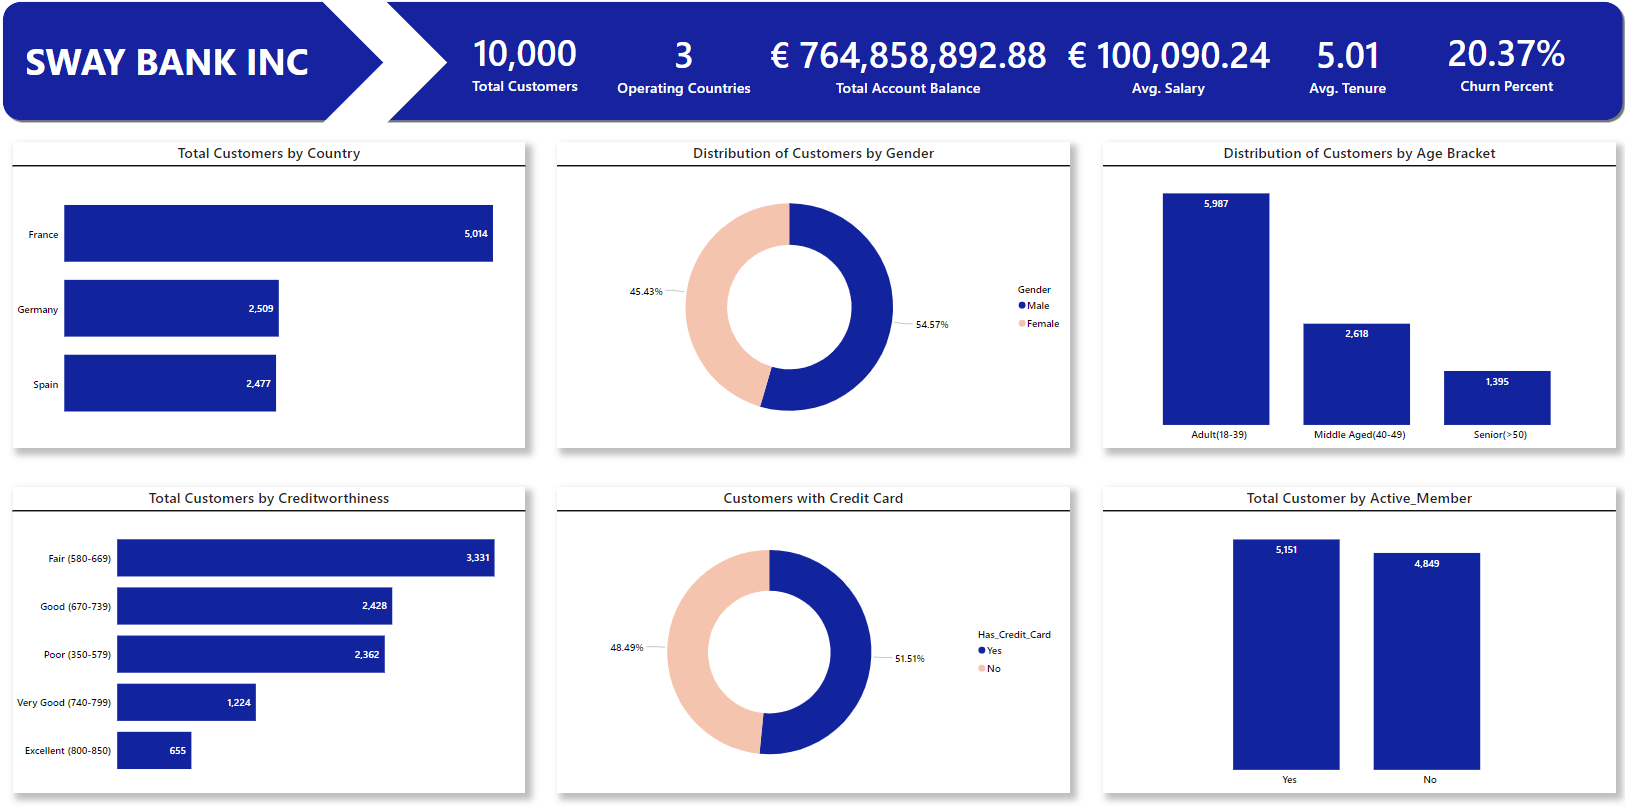

This screenshot's page, from the dashboard's own definition file:
{"tool":"powerbi","page":{"name":"DASHBOARD","canvas":[2400,1200],"ordinal":0},"visuals":[{"type":"shape","box":[0,0,2399.3,185.8],"z":0},{"type":"textbox","box":[19.9,50.9,455.5,81.8],"z":1000},{"type":"shape","box":[475.4,4.4,185.8,181.3],"z":2000},{"type":"card","fields":{"Values":["Bank Churn.Total Customer"]},"box":[661.2,11.1,227.8,161.4],"z":3000},{"type":"card","fields":{"Values":["Bank Churn.Countries"]},"box":[900.6,13.3,218.9,161.4],"z":4000},{"type":"card","fields":{"Values":["Bank Churn.Total Account Balance"]},"box":[1131.1,13.3,420.2,163.6],"z":5000},{"type":"card","fields":{"Values":["Bank Churn.Avg. Salary"]},"box":[1562.8,13.3,320.6,163.6],"z":6000},{"type":"card","fields":{"Values":["Bank Churn.Avg. Tenure"]},"box":[1895.1,13.3,185.8,163.6],"z":7000},{"type":"card","fields":{"Values":["Bank Churn.Total Churn"]},"box":[2092.4,11.4,261.2,161.8],"z":8000},{"type":"clusteredBarChart","title":"Total Customers by Country","fields":{"Category":["Bank Churn.Geography"],"Y":["Bank Churn.Total Customer"]},"box":[19.9,212.3,756.3,451.1],"z":9000},{"type":"donutChart","title":"Distribution of Customers by Gender","fields":{"Category":["Bank Churn.Gender"],"Y":["Bank Churn.Total Customer"]},"box":[822.6,212.3,756.3,451.1],"z":10000},{"type":"clusteredColumnChart","title":"Distribution of Customers by Age Bracket","fields":{"Category":["Bank Churn.Age_Bracket"],"Y":["Bank Churn.Total Customer"]},"box":[1627.5,212.3,756.3,451.1],"z":11000},{"type":"clusteredBarChart","title":"Total Customers by Creditworthiness","fields":{"Category":["Bank Churn.Creditworthiness"],"Y":["Bank Churn.Total Customer"]},"box":[19.9,720.9,756.3,451.1],"z":12000},{"type":"donutChart","title":"Customers with Credit Card","fields":{"Y":["Bank Churn.Total Customer"],"Category":["Bank Churn.Has_Credit_Card"]},"box":[822.6,720.9,756.3,451.1],"z":13000},{"type":"clusteredColumnChart","fields":{"Y":["Bank Churn.Total Customer"],"Category":["Bank Churn.Active_Member"]},"box":[1628,721,756,451],"z":14000}]}

Visuals, with their boxes in screenshot pixels (x1, y1, x2, y2), scaled from the page's 2400x1200 canvas onto the 1625x806 screenshot:
shape: (0,0,1624,125)
textbox: (13,34,322,89)
shape: (322,3,448,125)
card - Bank Churn.Total Customer: (448,7,602,116)
card - Bank Churn.Countries: (610,9,758,117)
card - Bank Churn.Total Account Balance: (766,9,1050,119)
card - Bank Churn.Avg. Salary: (1058,9,1275,119)
card - Bank Churn.Avg. Tenure: (1283,9,1409,119)
card - Bank Churn.Total Churn: (1417,8,1594,116)
"Total Customers by Country" clusteredBarChart: (13,143,526,446)
"Distribution of Customers by Gender" donutChart: (557,143,1069,446)
"Distribution of Customers by Age Bracket" clusteredColumnChart: (1102,143,1614,446)
"Total Customers by Creditworthiness" clusteredBarChart: (13,484,526,787)
"Customers with Credit Card" donutChart: (557,484,1069,787)
clusteredColumnChart - Bank Churn.Total Customer x Bank Churn.Active_Member: (1102,484,1614,787)
